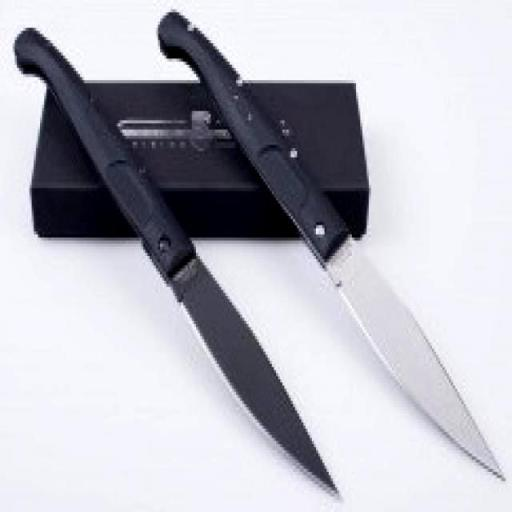knife: (329, 230, 512, 505)
